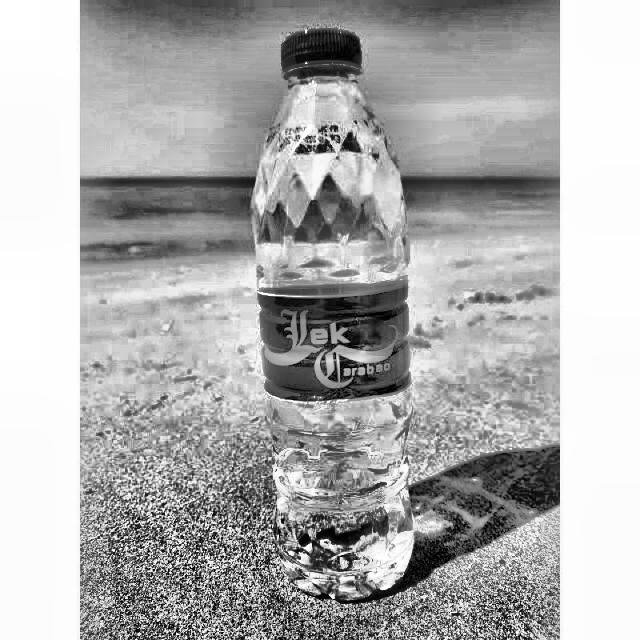waterbottle: (244, 22, 426, 608)
